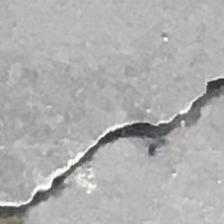Crack: (0, 80, 224, 218)
